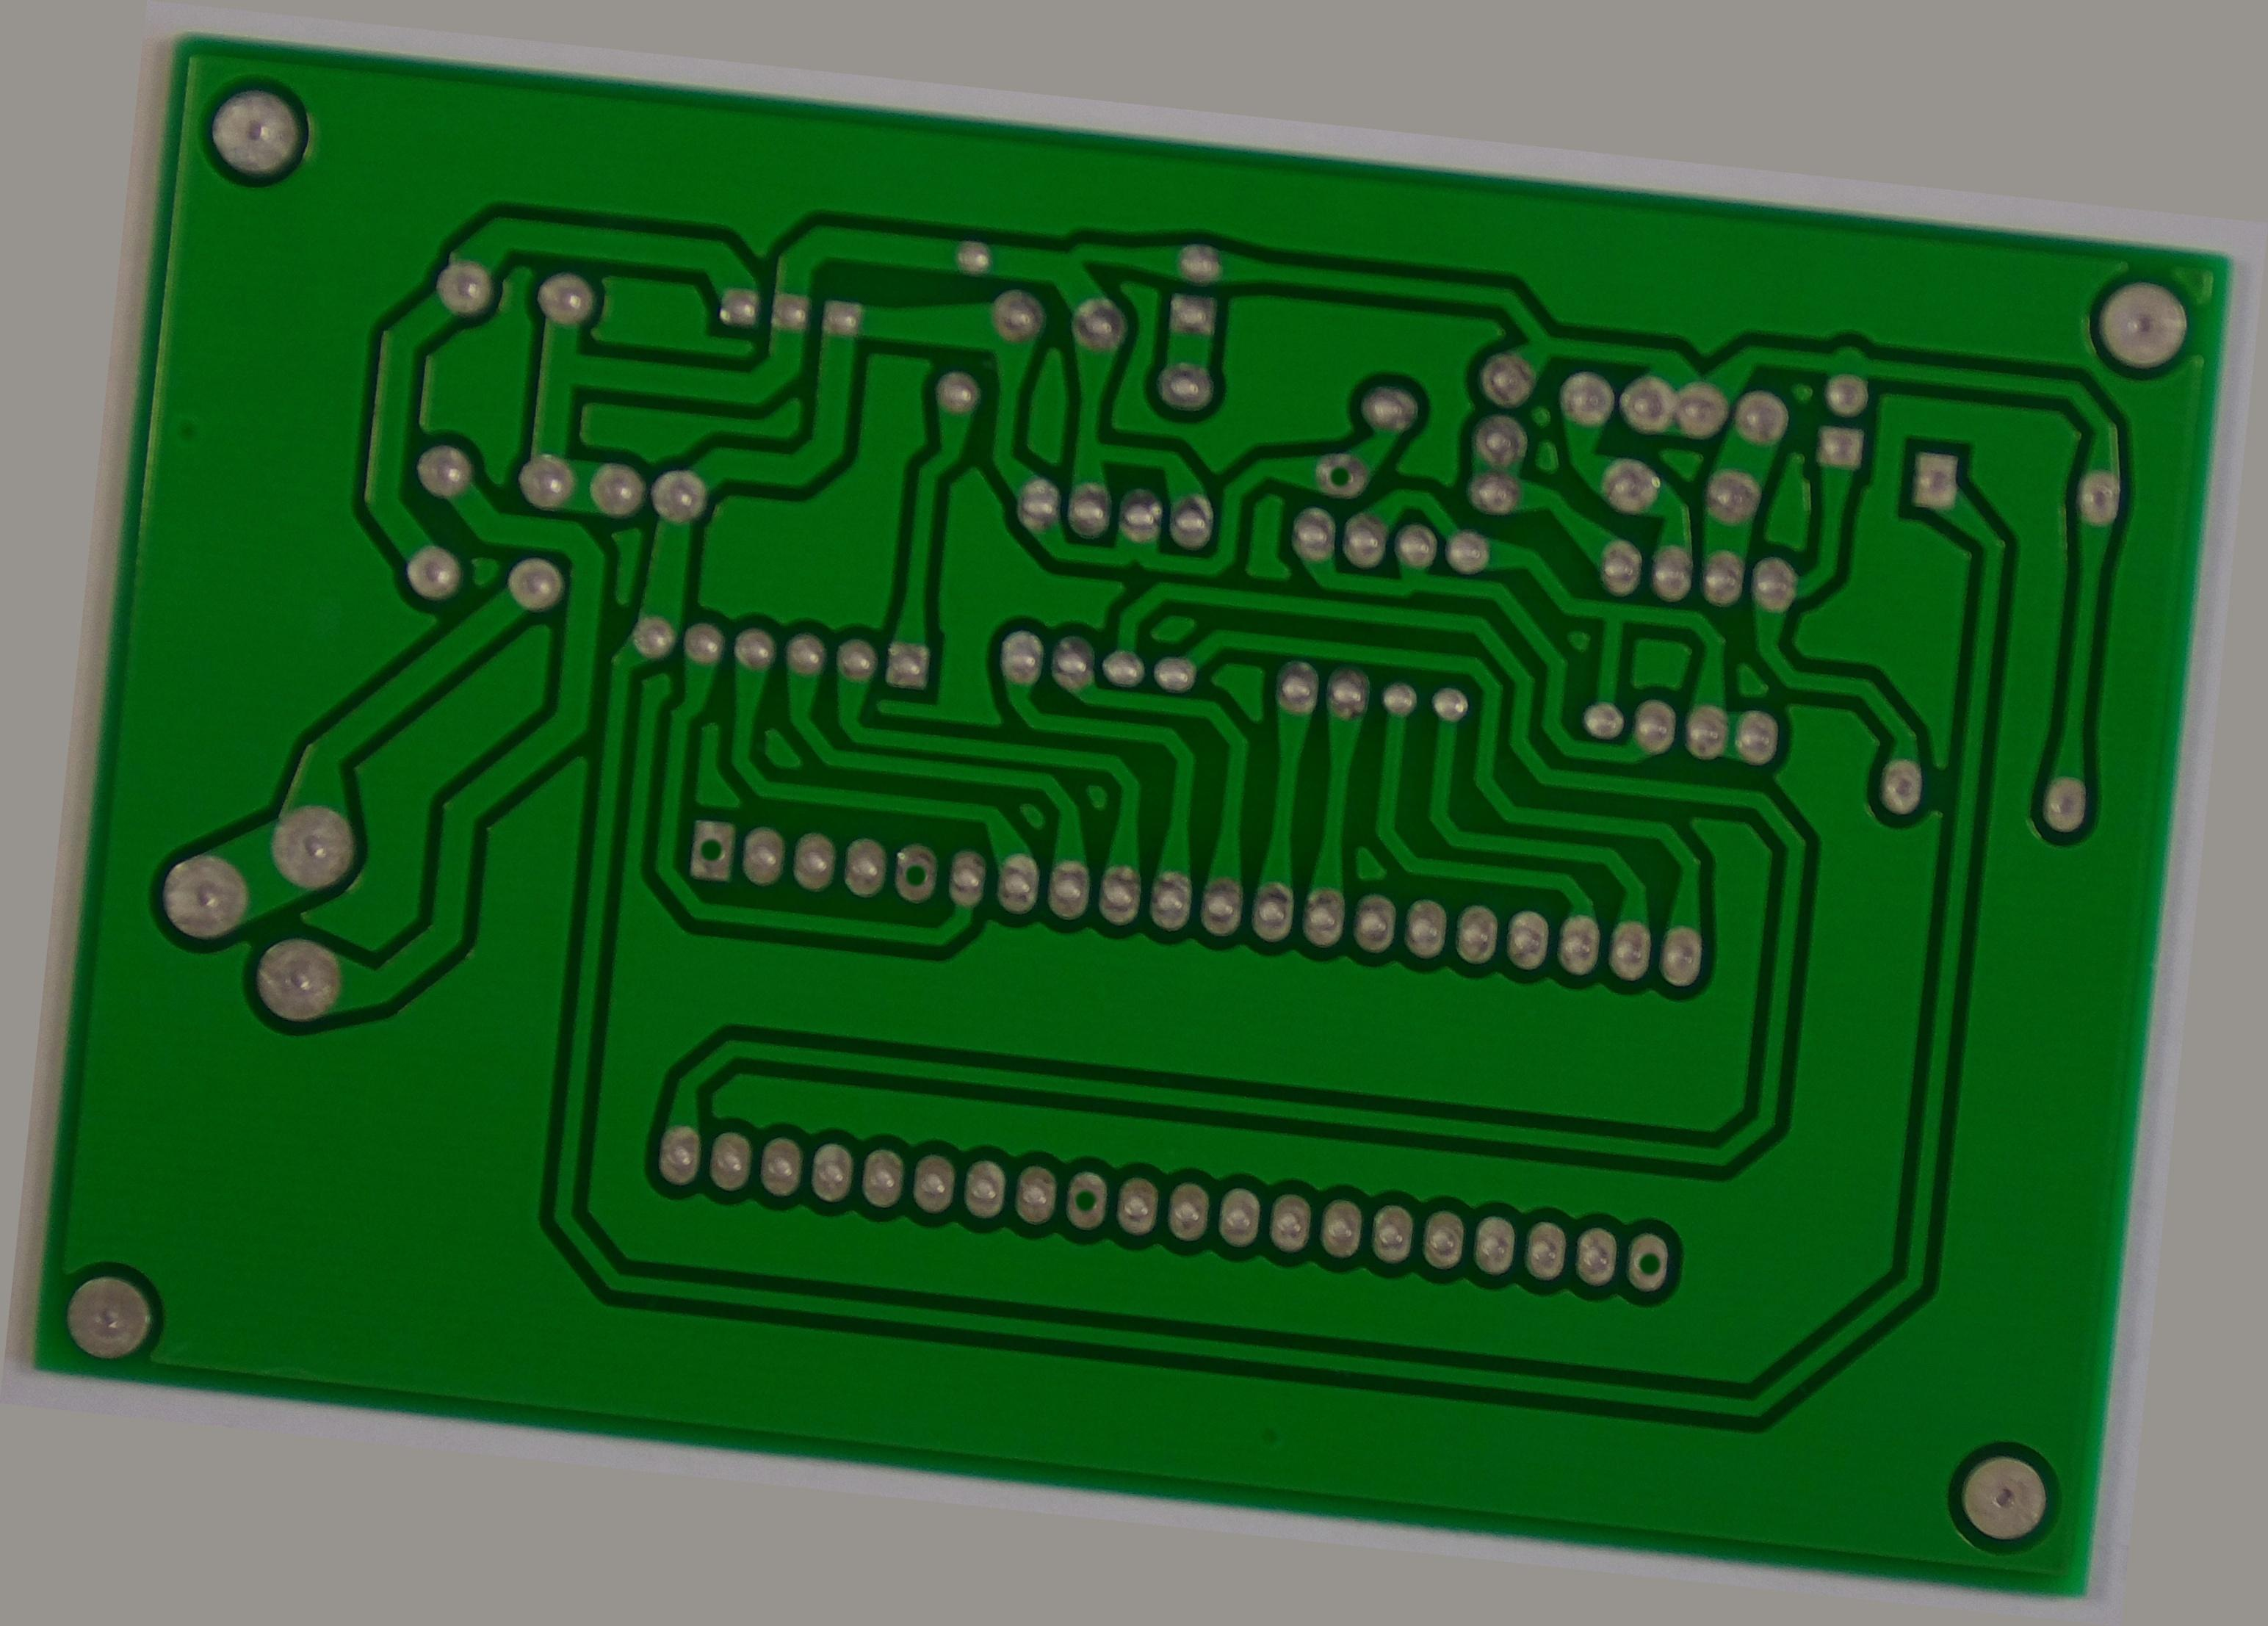missing_hole: (1696, 1223, 1760, 1306), (1094, 1223, 1160, 1299), (663, 866, 723, 940), (882, 869, 940, 945), (1281, 366, 1348, 429)
